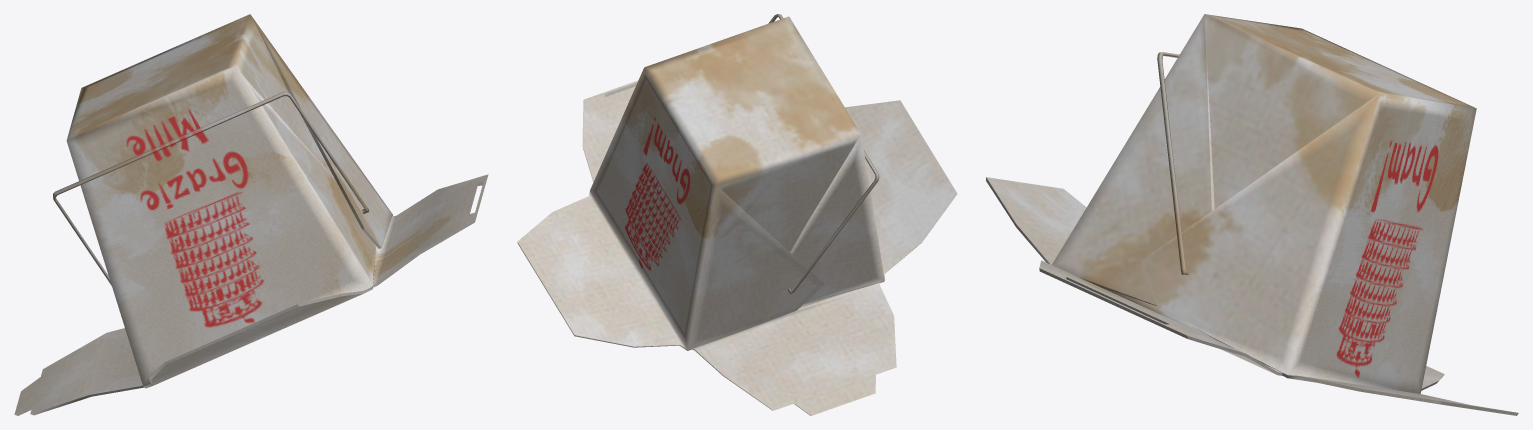
The model's file is Prop_ChineseTakeout.fbx.
3 views of the same model, side by side, from view 1: azimuth 30°, elevation 25°; view 2: azimuth 150°, elevation 25°; view 3: azimuth 270°, elevation 25° (orthographic). The views are drawn at different scales.
Visible parts, largest first — view 1: TakeoutBox_low; view 2: TakeoutBox_low; view 3: TakeoutBox_low.
Boxes of the visible parts, bbox=[...] form: TakeoutBox_low: bbox=[14, 14, 488, 415]; TakeoutBox_low: bbox=[517, 14, 957, 415]; TakeoutBox_low: bbox=[986, 14, 1518, 415].
Size of what is drawn, in the model's own units: 1464 by 1246 by 1442.
Materials: 1 (1 with a texture image).
